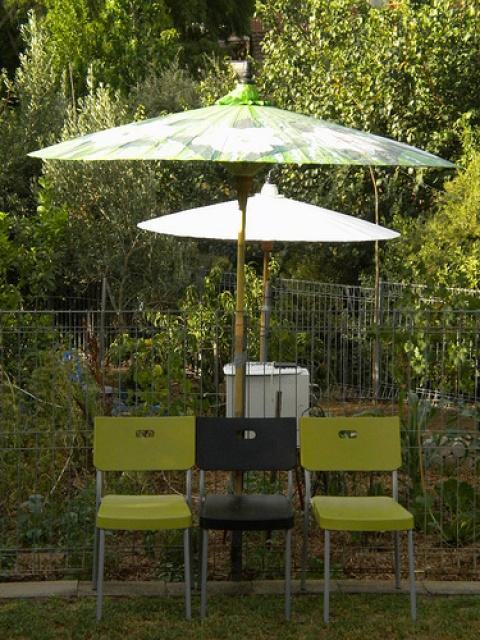Kursi: (297, 415, 416, 624), (193, 415, 297, 625), (92, 414, 193, 622)
